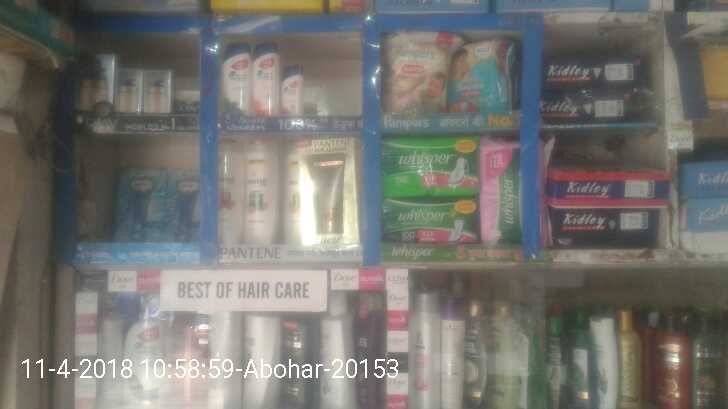venus: (114, 166, 162, 240), (167, 170, 197, 243)
